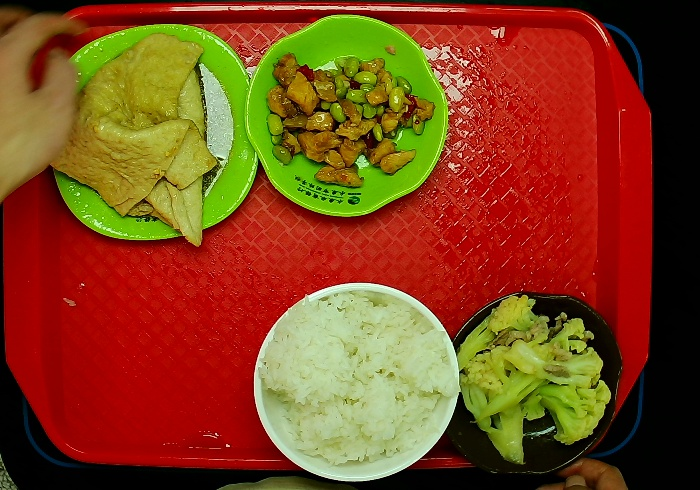YKMZ-Fan_Wan: (249, 281, 473, 490)
YKMZ-Ka_Fei_Ao_Bian_Wan: (440, 282, 634, 481)
YKMZ-Lv_Se_Ao_Bian_Wan: (234, 4, 457, 234)
YKMZ-Lv_Se_Fang_Die: (48, 12, 265, 251)
